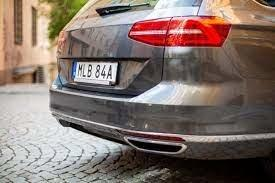license-plates: (72, 61, 119, 85)
